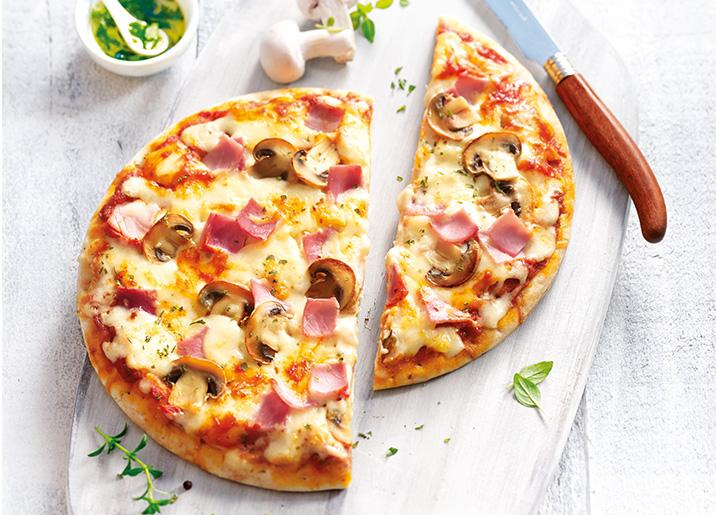champignon: (242, 297, 298, 366), (161, 357, 226, 415), (460, 130, 524, 183), (424, 237, 485, 289), (139, 215, 199, 265), (304, 254, 355, 312), (198, 278, 255, 325), (430, 89, 478, 141), (295, 139, 341, 192), (248, 137, 295, 183)
